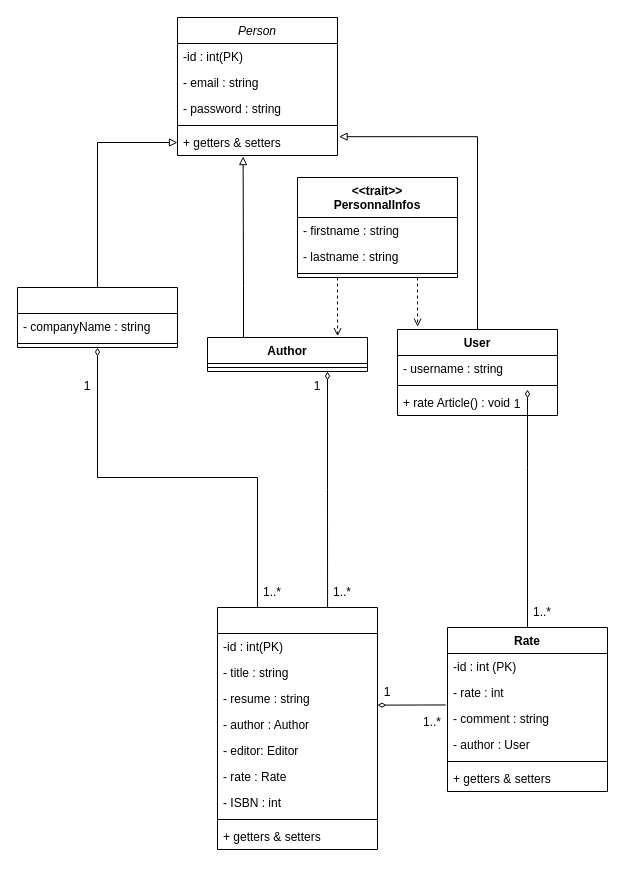
Image size: 625x870. Some labels were removed from this diagram. Here are the shapes that lost their labels. From the top down, the box of each, then its label:
(16, 286, 178, 348): Editor
(216, 606, 378, 850): Article
